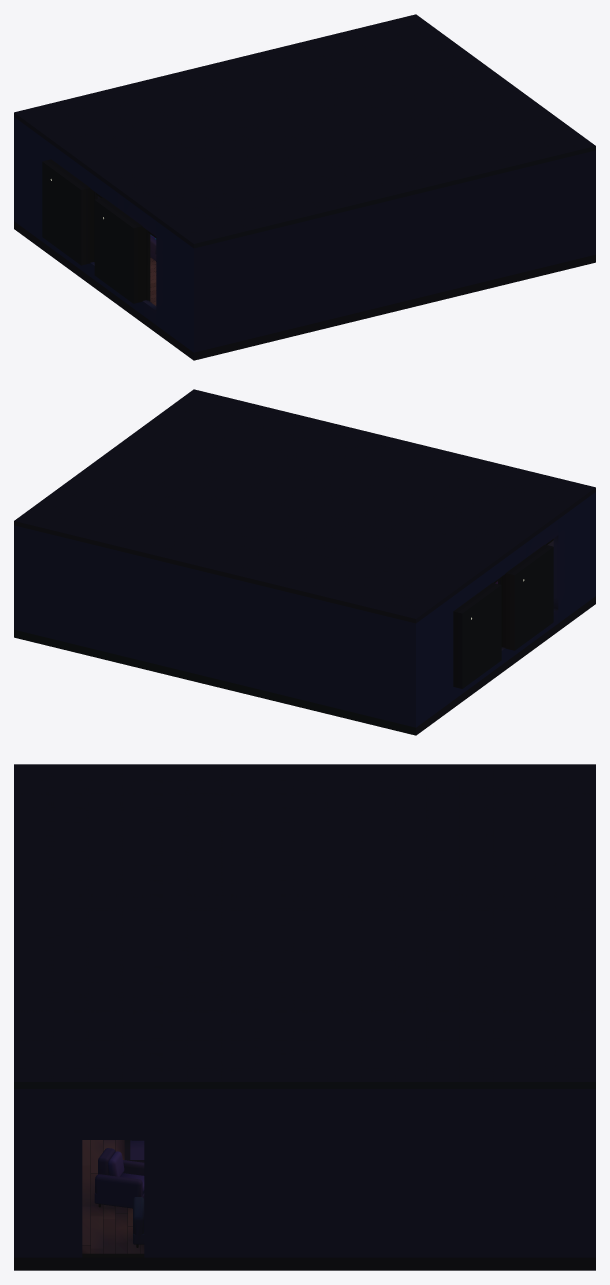
File: gece-lounge.ae099f34df4a.glb
3 views of the same model, one above another, from view 1: azimuth 30°, elevation 25°; view 2: azimuth 150°, elevation 25°; view 3: azimuth 270°, elevation 25° (orthographic). The views are drawn at different scales.
Visible parts, largest first — view 1: ceiling, wall_S, wall_W, floor; view 2: ceiling, wall_N, wall_W, floor; view 3: ceiling, wall_E, floor, room, wall_N, wall_S.
Boxes of the visible parts, bbox=[...] form: ceiling: bbox=[14, 14, 595, 248]; wall_S: bbox=[191, 150, 595, 352]; wall_W: bbox=[16, 119, 190, 350]; floor: bbox=[14, 221, 595, 360]; ceiling: bbox=[14, 389, 595, 623]; wall_N: bbox=[14, 525, 418, 727]; wall_W: bbox=[419, 494, 593, 725]; floor: bbox=[14, 596, 595, 735]; ceiling: bbox=[14, 764, 595, 1088]; wall_E: bbox=[23, 1089, 586, 1257]; floor: bbox=[14, 1140, 595, 1270]; room: bbox=[94, 1140, 144, 1247]; wall_N: bbox=[587, 1089, 595, 1257]; wall_S: bbox=[14, 1089, 22, 1257].
Bounding box in the file's own units: 13.63 × 3.69 × 10.32.
